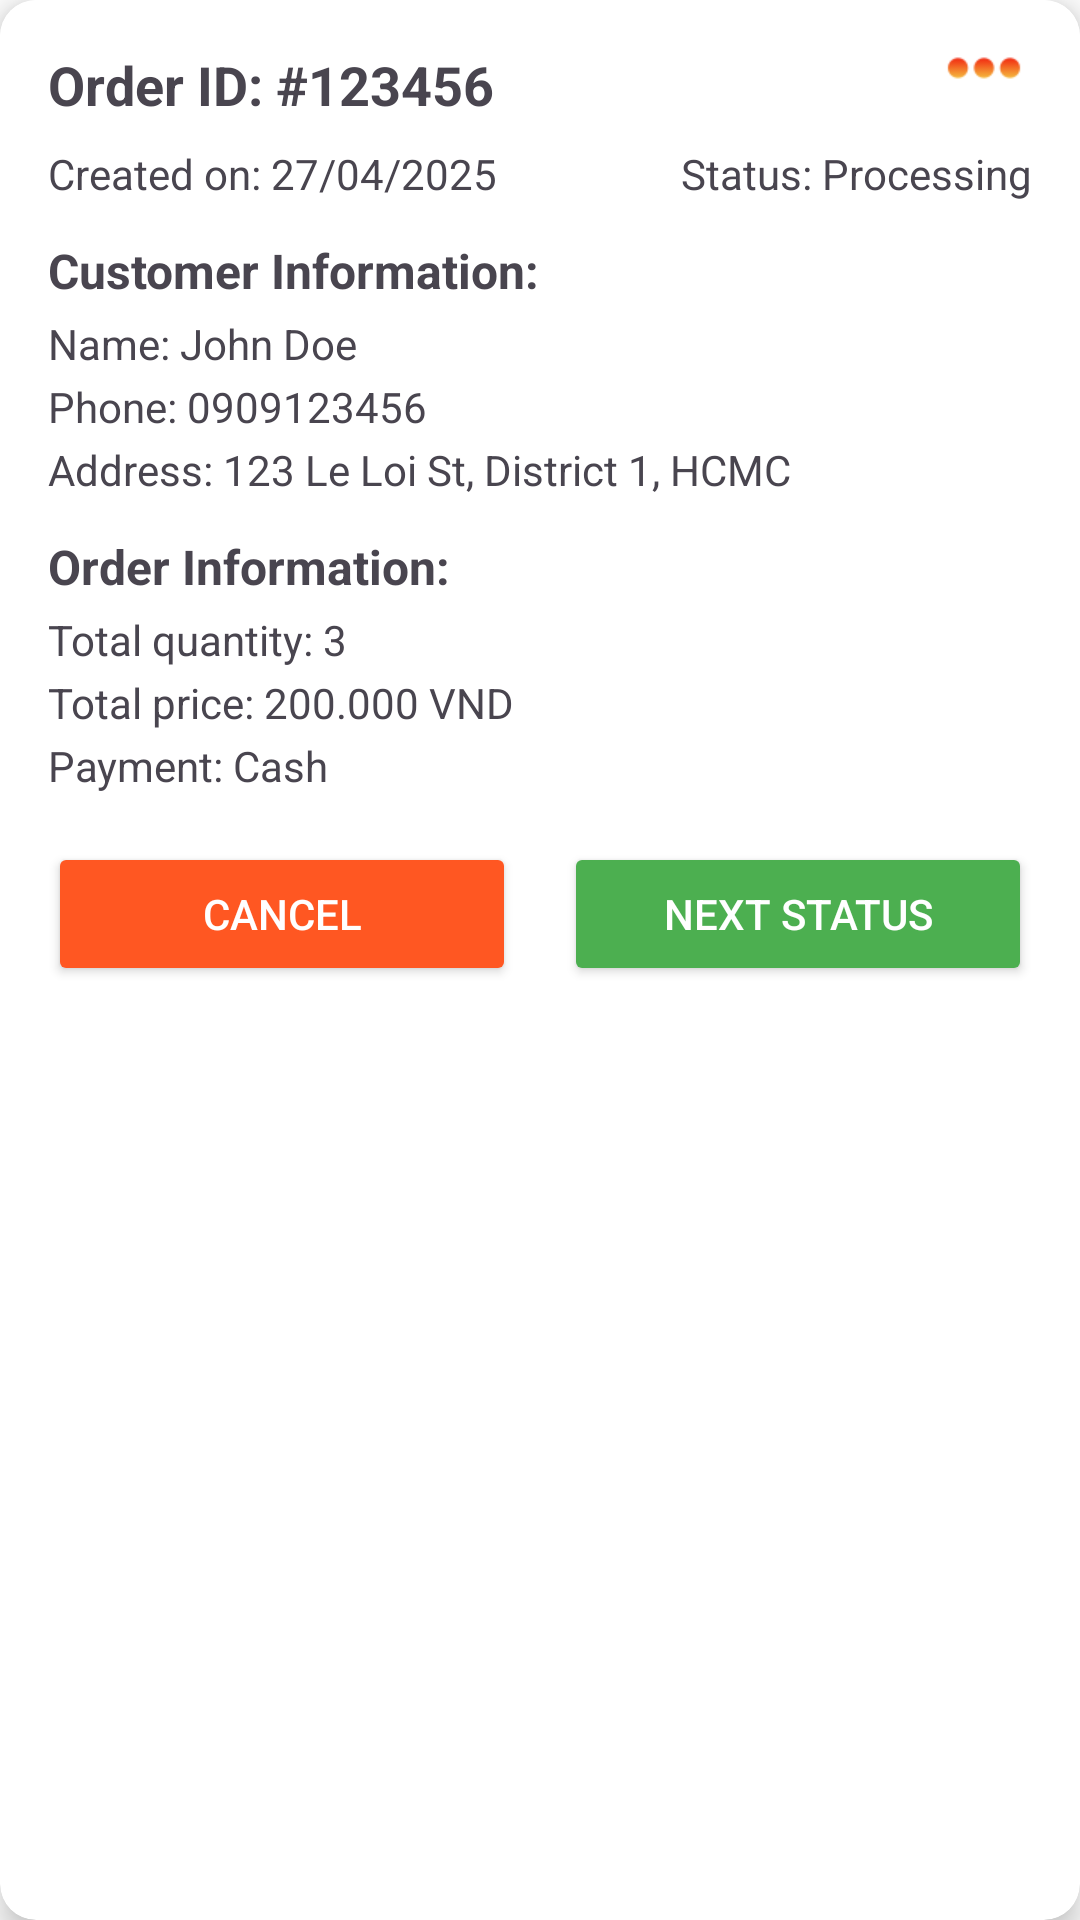

Named icons in this screenshot (1080px x 1920px) and their bounding boxes, (x1, y1, x2, y2):
three dots: (947, 57, 1021, 79)
